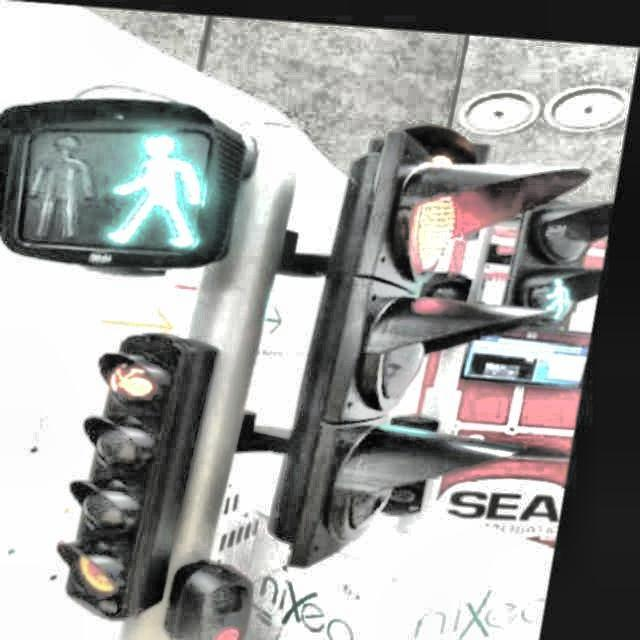semaforo pedestre: (0, 72, 280, 310), (494, 153, 624, 356)
